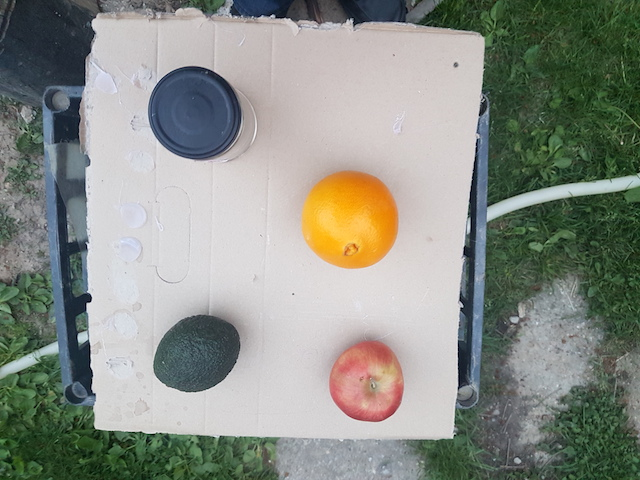apple: (327, 341, 405, 423)
avocado: (151, 313, 242, 395)
orange: (299, 172, 399, 271)
recipient: (147, 65, 241, 161)
